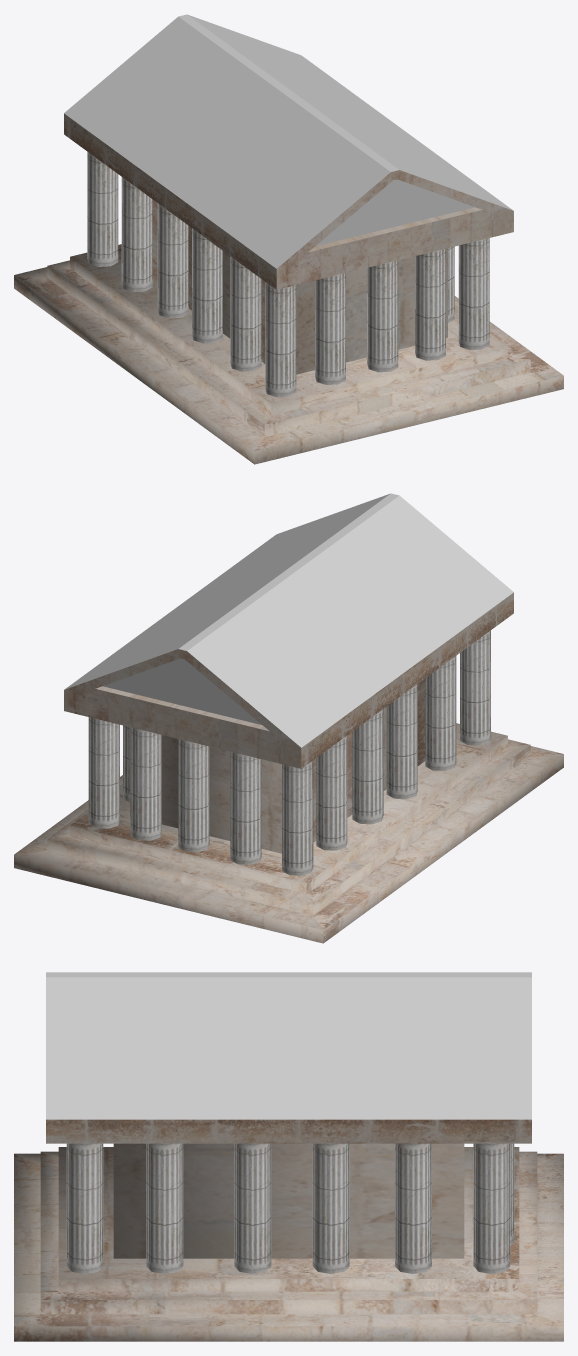
Rendered from temple.fbx.
3 renders of one model, top to bottom at view 1: azimuth 30°, elevation 25°; view 2: azimuth 150°, elevation 25°; view 3: azimuth 270°, elevation 25°, orthographic. The views are drawn at different scales.
Visible parts, largest first — view 1: Cube.020; view 2: Cube.020; view 3: Cube.020.
Boxes of the visible parts, box(x1,y1,x2,y2) form: Cube.020: box(14, 14, 563, 464); Cube.020: box(14, 493, 563, 943); Cube.020: box(14, 972, 563, 1341).
Size of the model in its own units: 1042 by 790 by 1403.
